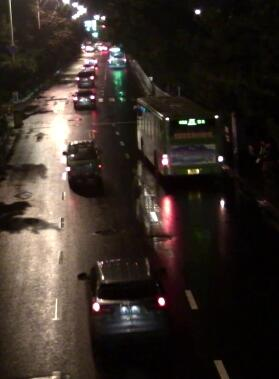bus: (132, 90, 229, 181), (107, 47, 125, 70)
car: (76, 257, 168, 350), (60, 140, 106, 188), (71, 89, 99, 110), (73, 69, 99, 88)
